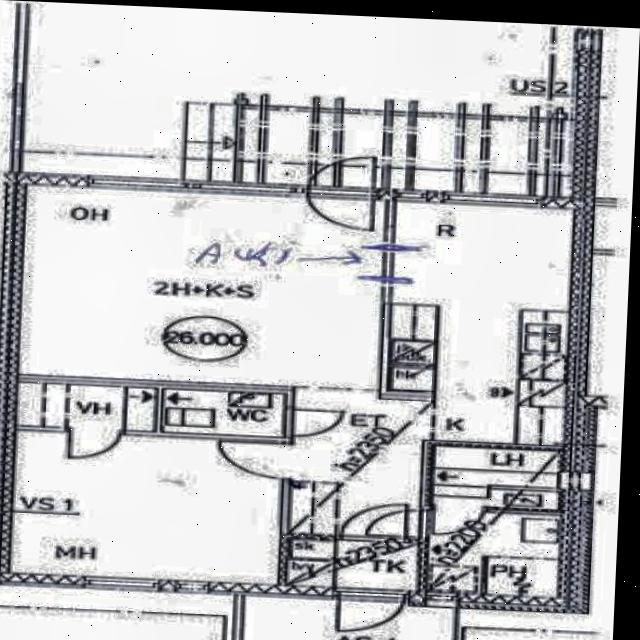room: (19, 185, 387, 390), (10, 431, 284, 585), (19, 382, 285, 438), (428, 510, 560, 597), (432, 446, 562, 511), (287, 538, 419, 591)
